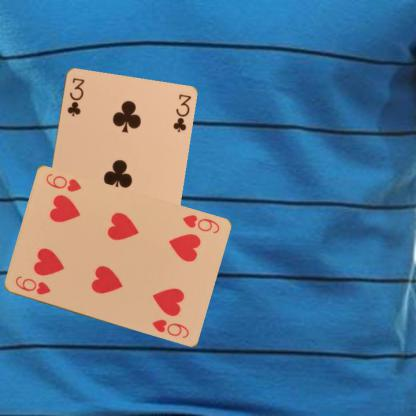3c: (64, 75, 86, 118)
6h: (180, 212, 221, 235), (12, 274, 52, 296)
